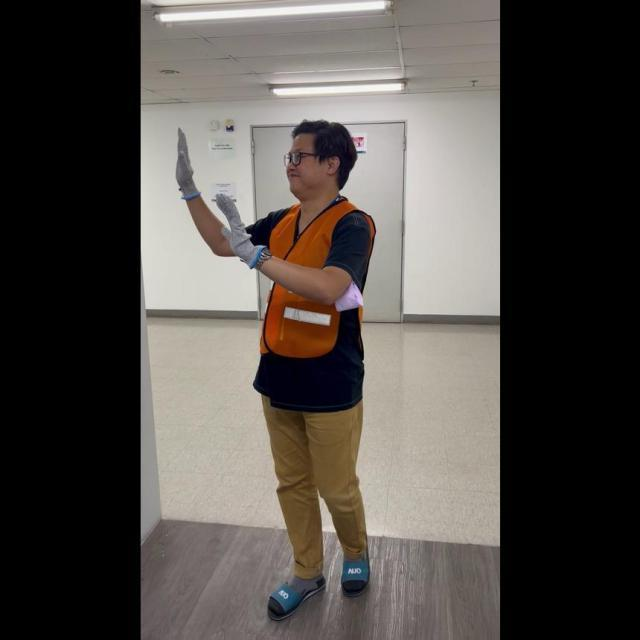gloved_hand: (211, 185, 264, 263), (173, 123, 201, 199)
